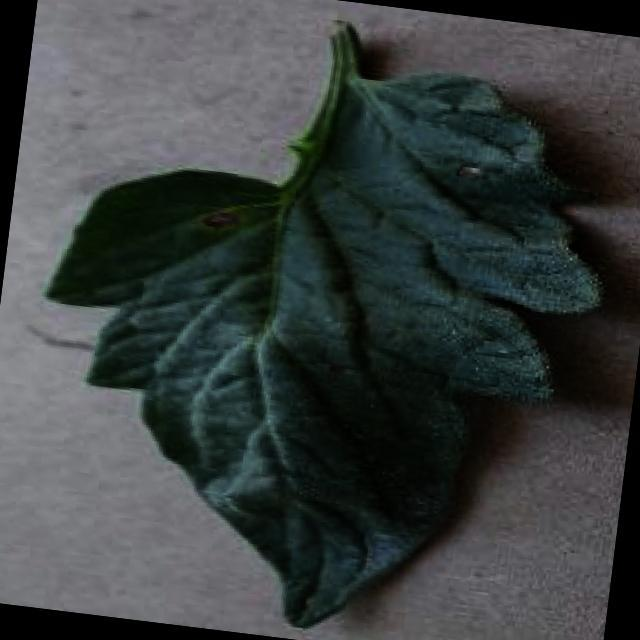Tomato Early blight leaf: (7, 0, 634, 640)
